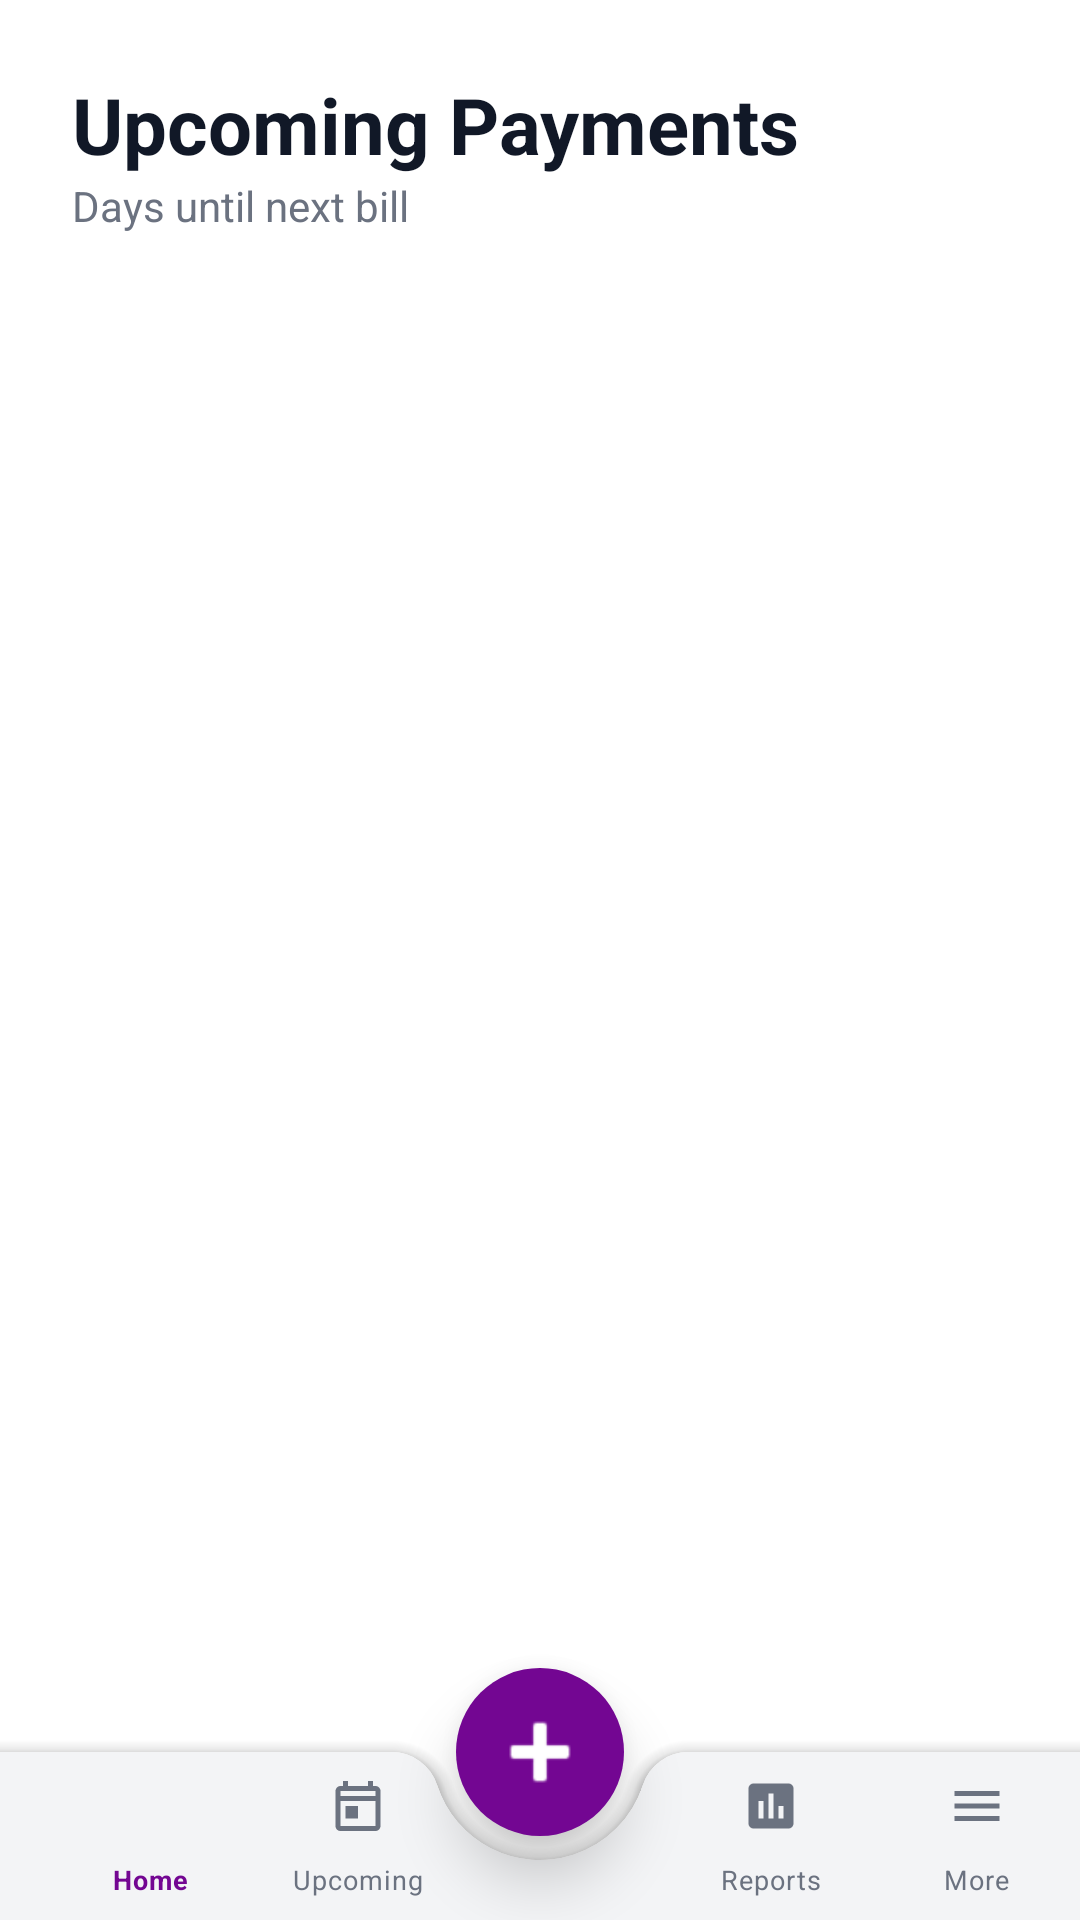

Where icons sit on this 1080 x 1920 app screen, as (x1, y1, x2, y2):
add: (456, 1668, 624, 1836)
